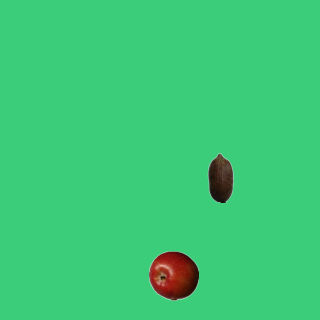Apple Braeburn: (148, 250, 198, 300)
Nut Pecan: (195, 152, 245, 202)
